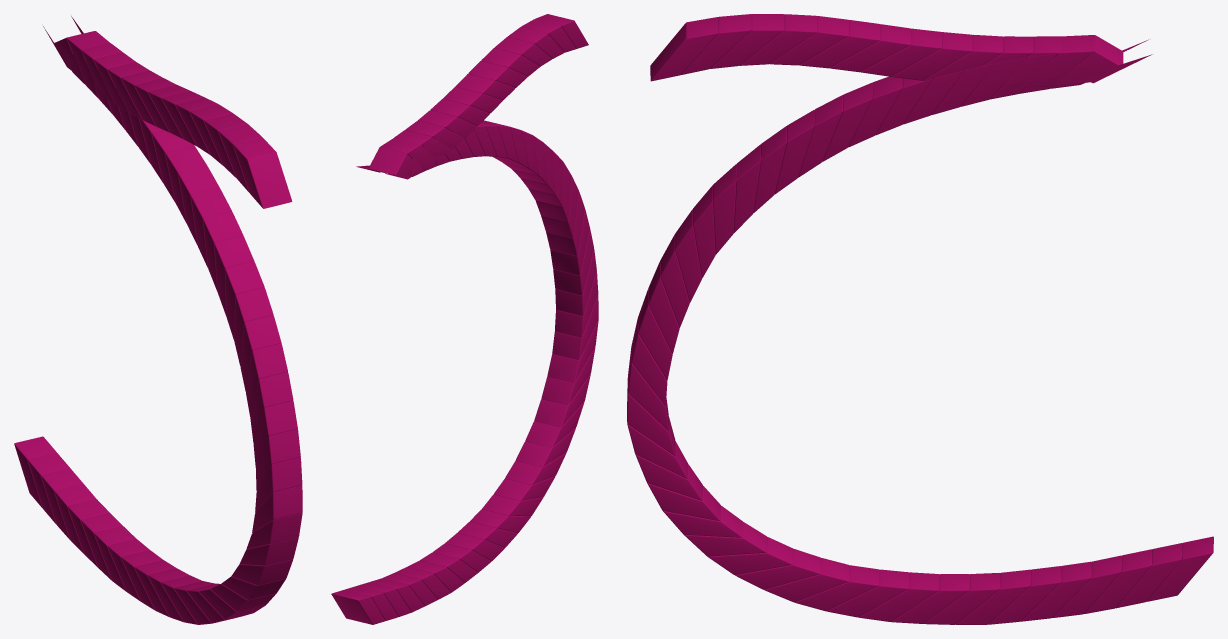
The model's file is kha.fbx.
3 views of the same model, side by side, from view 1: azimuth 30°, elevation 25°; view 2: azimuth 150°, elevation 25°; view 3: azimuth 270°, elevation 25° (orthographic). The views are drawn at different scales.
Visible parts, largest first — view 1: Cube; view 2: Cube; view 3: Cube.
Part boxes in pixels (x1=…): Cube: x1=14, y1=16, x2=302, y2=624; Cube: x1=331, y1=14, x2=598, y2=624; Cube: x1=627, y1=14, x2=1213, y2=624.
Size of the model in its own units: 52.78 by 847 by 756.
